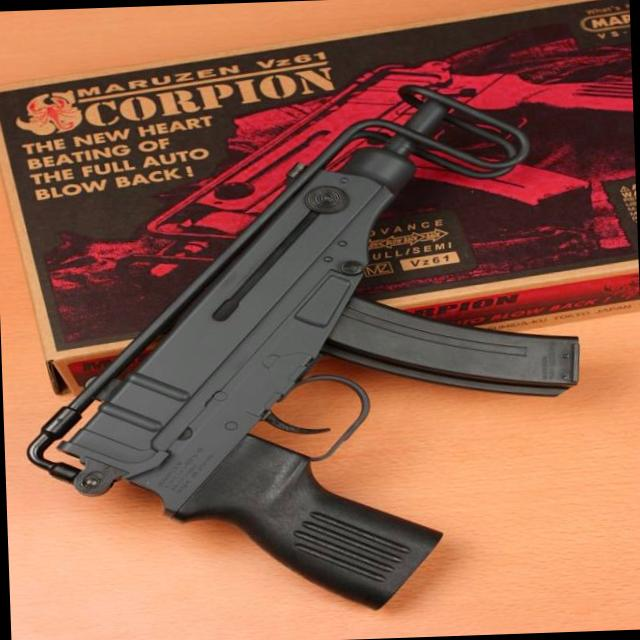Gun: (27, 85, 578, 606)
